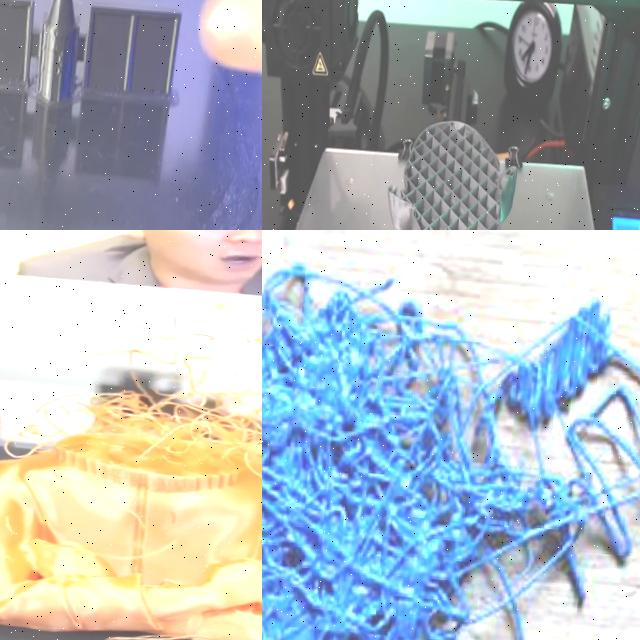spaghetti: (262, 253, 640, 640), (13, 303, 262, 479)
